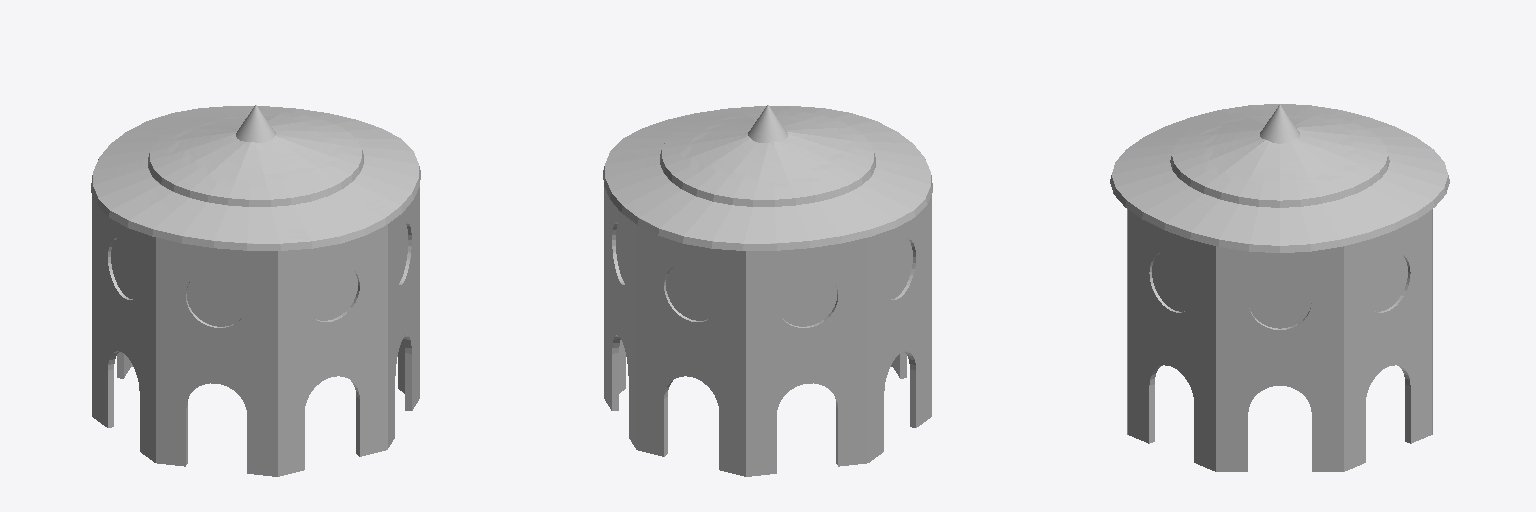
Rendered from ArchiOcto-02.obj.
3 renders of one model, left to right at view 1: azimuth 30°, elevation 25°; view 2: azimuth 150°, elevation 25°; view 3: azimuth 270°, elevation 25°, orthographic.
Visible parts, largest first — view 1: default; view 2: default; view 3: default.
Boxes of the visible parts, x1=… form: default: x1=91, y1=105, x2=420, y2=476; default: x1=603, y1=105, x2=932, y2=476; default: x1=1110, y1=104, x2=1449, y2=471.
Size of the model in its own units: 37.12 by 36.52 by 37.12.